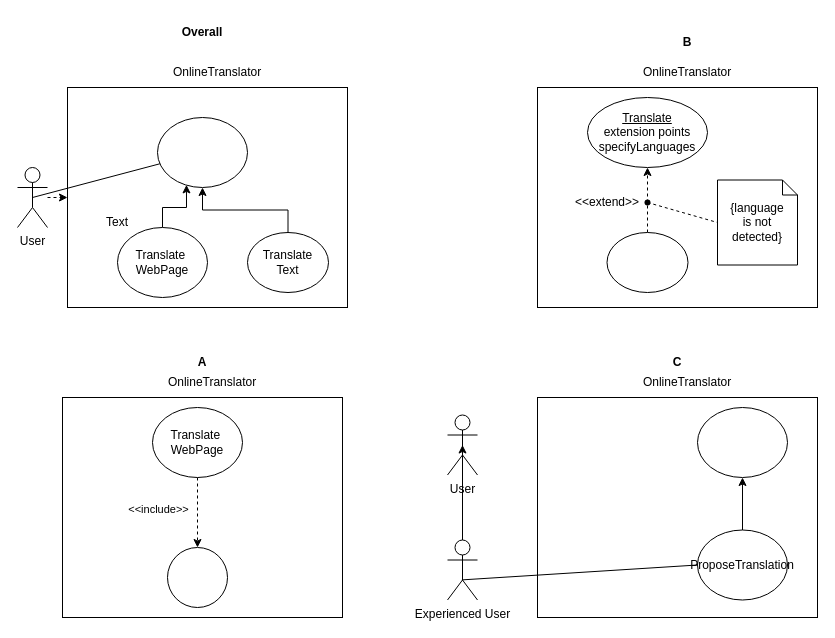
Some shapes in this 835 by 638 pixel diagram are drawn without their labels. The shapes that lost their labels are listed below. From the top down, each one's centre as x and y in pixels, then its label:
the point at 202,152: Translate
the point at 647,262: SetLanguages
the point at 742,442: TranslateText
the point at 197,577: SetURL
